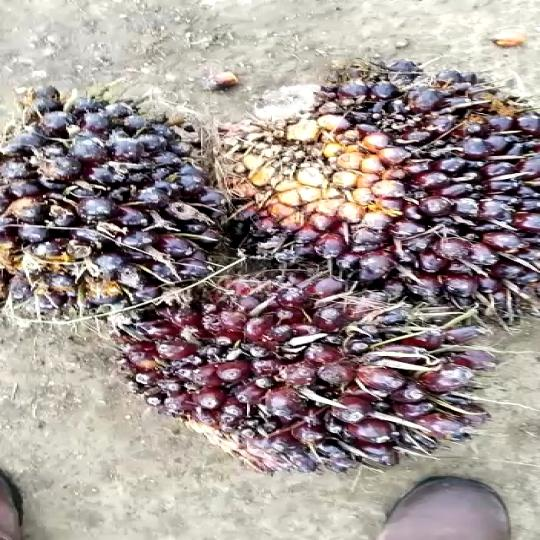kurang masak: (228, 57, 540, 316), (113, 278, 507, 475), (0, 71, 246, 317)
